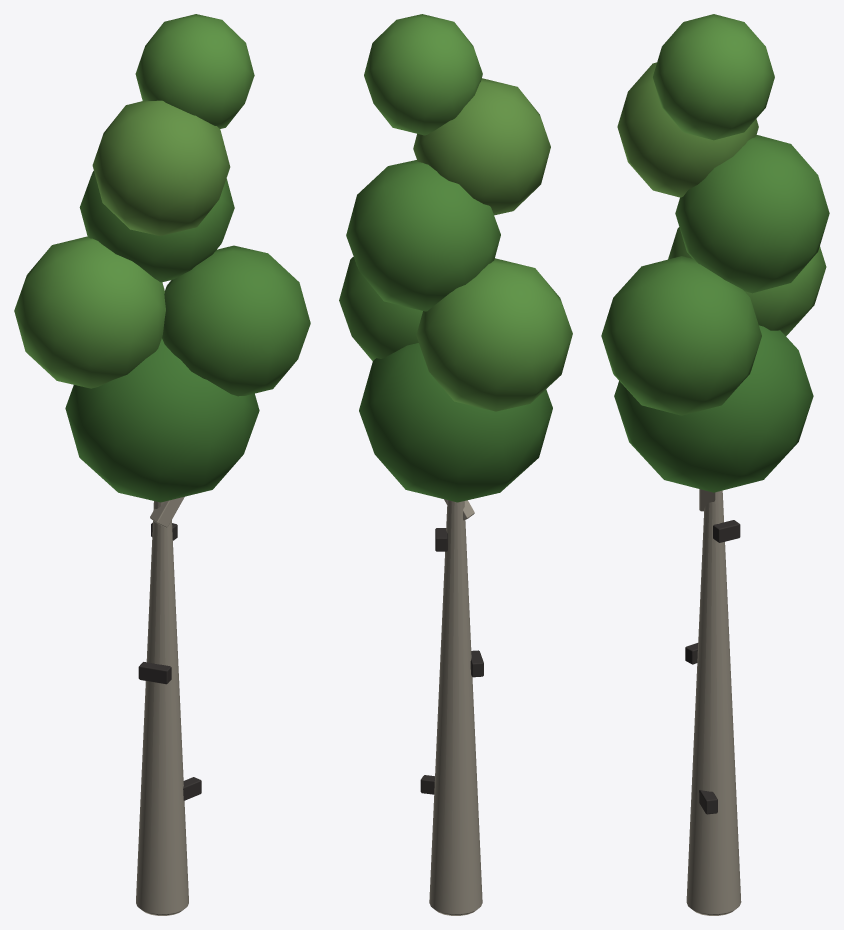
File: tree-birch.4902c0f9.glb
3 views of the same model, side by side, from view 1: azimuth 30°, elevation 25°; view 2: azimuth 150°, elevation 25°; view 3: azimuth 270°, elevation 25° (orthographic). The views are drawn at different scales.
Visible parts, largest first — view 1: body; view 2: body; view 3: body.
Boxes of the visible parts, left/top/right/bottom form: body: left=14, top=14, right=310, bottom=915; body: left=339, top=14, right=572, bottom=915; body: left=601, top=14, right=829, bottom=915.
Size of the model in its own units: 0.9 by 3.1 by 0.71.
